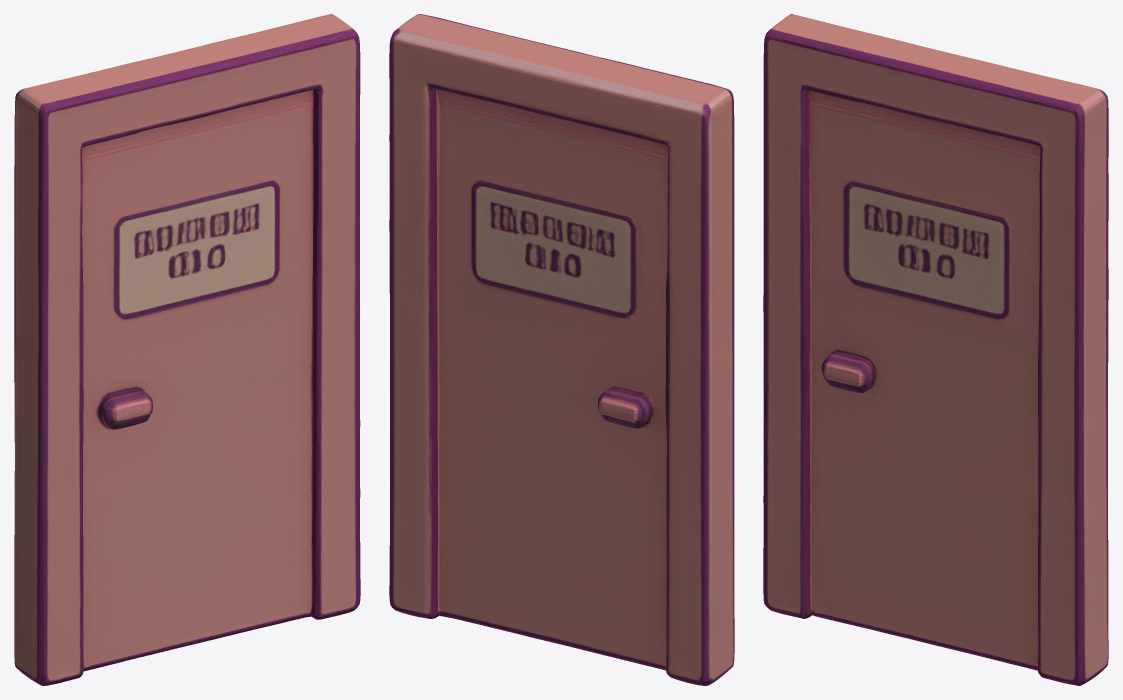
The picture shows the model from 3 angles, left to right: view 1: azimuth 30°, elevation 25°; view 2: azimuth 150°, elevation 25°; view 3: azimuth 330°, elevation 25°; orthographic projection.
Visible parts, largest first — view 1: world; view 2: world; view 3: world.
Part boxes in pixels (left/top/right/bottom): world: left=14, top=14, right=360, bottom=685; world: left=389, top=14, right=734, bottom=685; world: left=763, top=14, right=1108, bottom=685.
Size of the model in its own units: 0.5799 by 1 by 0.1213.
1 material, 1 textured.
